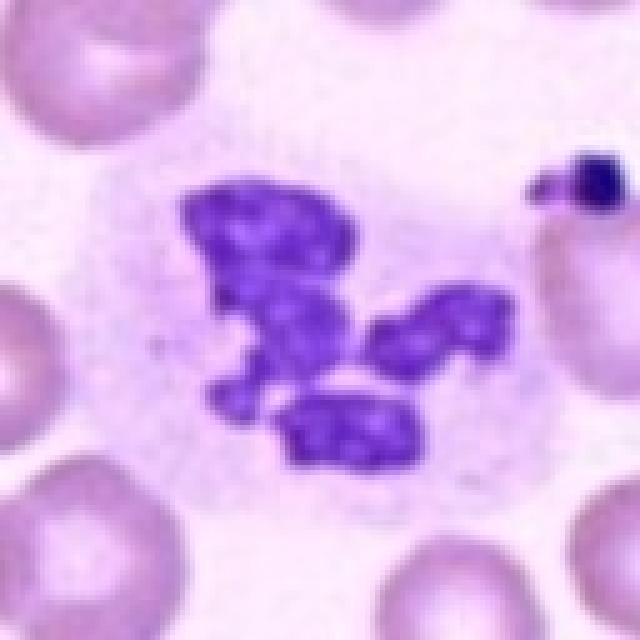neutro: (117, 144, 550, 515)
